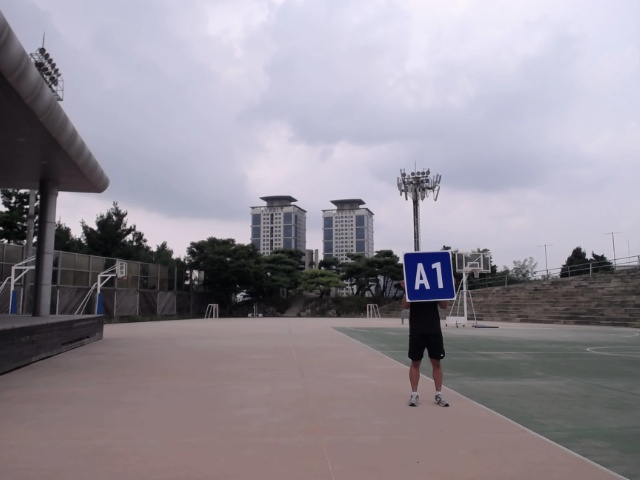delivery_a1: (403, 251, 456, 301)
